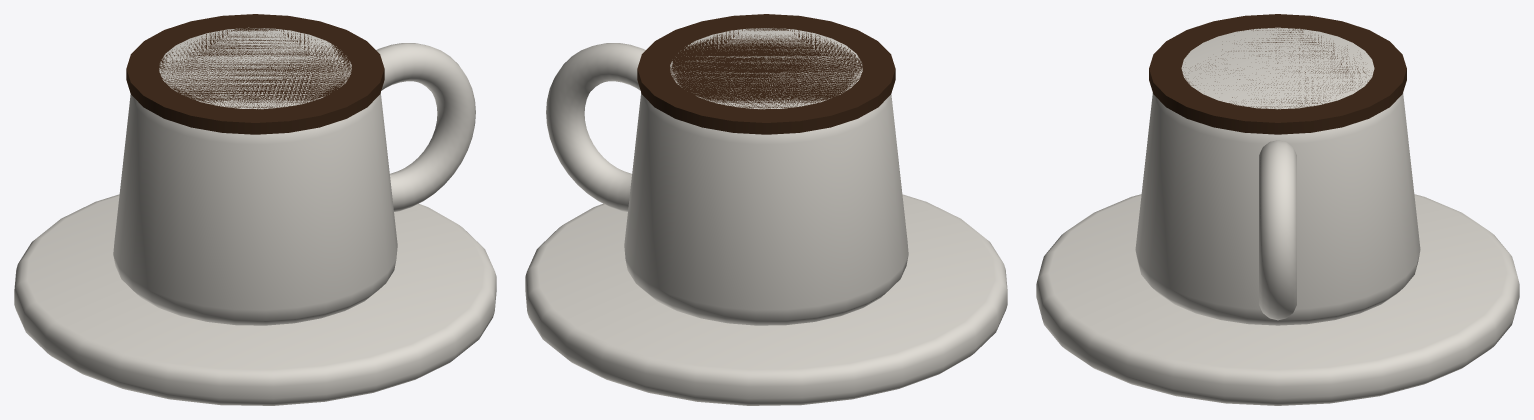
Rendered from xicara.glb.
The picture shows the model from 3 angles, left to right: view 1: azimuth 30°, elevation 25°; view 2: azimuth 150°, elevation 25°; view 3: azimuth 270°, elevation 25°; orthographic projection.
Parts seen in each view (by area): view 1: Cone, Cylinder, Cylinder.001, Torus; view 2: Cone, Cylinder, Cylinder.001, Torus; view 3: Cone, Cylinder, Cylinder.001, Torus.
Part boxes in pixels (left/top/right/bottom): Cone: left=113, top=27, right=397, bottom=325; Cylinder: left=14, top=194, right=496, bottom=405; Cylinder.001: left=126, top=14, right=384, bottom=134; Torus: left=376, top=43, right=475, bottom=211; Cone: left=624, top=28, right=908, bottom=325; Cylinder: left=525, top=194, right=1007, bottom=405; Cylinder.001: left=637, top=14, right=895, bottom=134; Torus: left=546, top=43, right=645, bottom=211; Cone: left=1135, top=27, right=1420, bottom=325; Cylinder: left=1036, top=194, right=1519, bottom=405; Cylinder.001: left=1149, top=14, right=1406, bottom=134; Torus: left=1259, top=140, right=1296, bottom=320.
Bounding box in the file's own units: 0.153 × 0.082 × 0.15.
